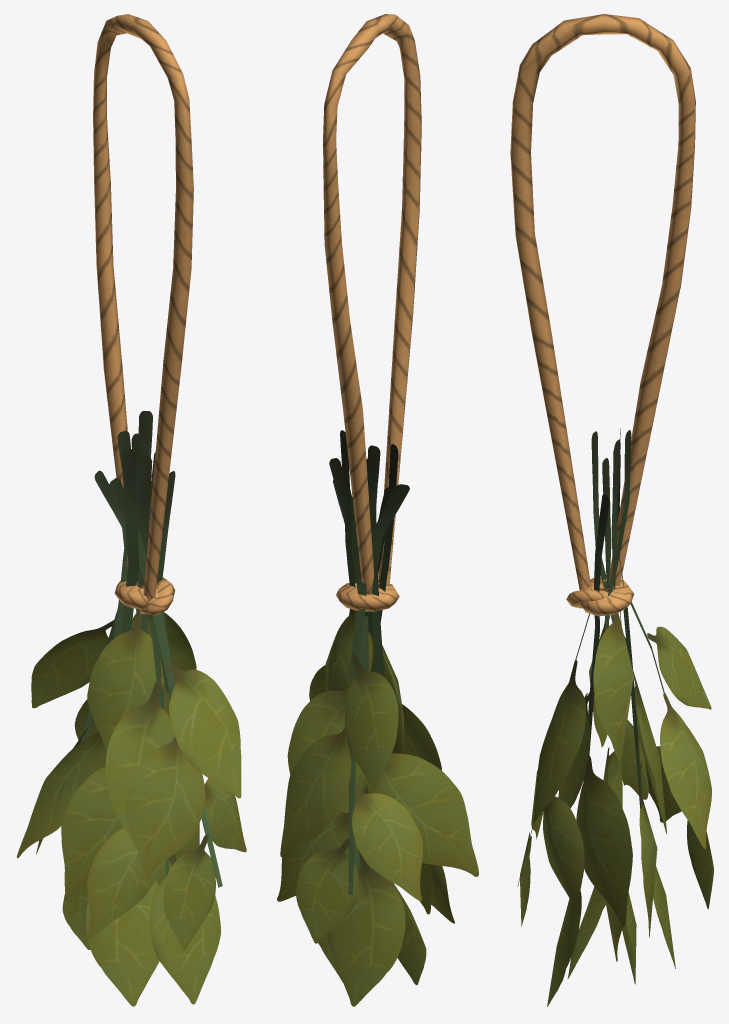
The model's file is SM_Potion_Props_Herb_Broom_Ceiling_01.fbx.
The picture shows the model from 3 angles, left to right: view 1: azimuth 30°, elevation 25°; view 2: azimuth 150°, elevation 25°; view 3: azimuth 270°, elevation 25°; orthographic projection.
Parts seen in each view (by area): view 1: SM_Potion_Props_Herb_Broom_Ceiling_01_LOD0; view 2: SM_Potion_Props_Herb_Broom_Ceiling_01_LOD0; view 3: SM_Potion_Props_Herb_Broom_Ceiling_01_LOD0.
Part boxes in pixels (x1,y1,x2,y2): SM_Potion_Props_Herb_Broom_Ceiling_01_LOD0: (17, 14, 246, 1006); SM_Potion_Props_Herb_Broom_Ceiling_01_LOD0: (277, 14, 478, 1006); SM_Potion_Props_Herb_Broom_Ceiling_01_LOD0: (510, 14, 713, 1006).
Size of what is drawn, in the model's own units: 22.78 by 99.57 by 18.76.
